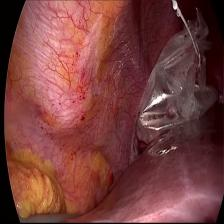Specimen Bag: (126, 0, 222, 160)
